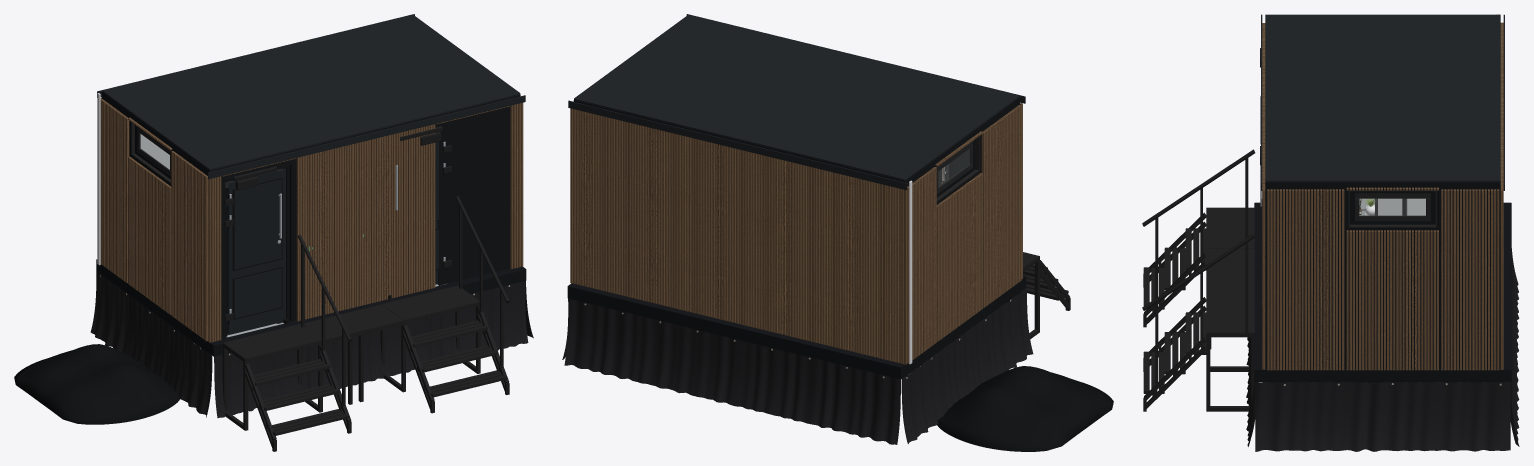
File: SHOWER2_B-f007bf019317.glb
The picture shows the model from 3 angles, left to right: view 1: azimuth 30°, elevation 25°; view 2: azimuth 150°, elevation 25°; view 3: azimuth 270°, elevation 25°; orthographic projection. The views are drawn at different scales.
Parts seen in each view (by area): view 1: RoofNoLED_Slab_1x1m, SHOWER2_Slats_front_02, SHOWER2_Curtain_front, SHOWER2_Wall_front_03_fill, SHOWER2_Drawbar_tarp, SHOWER2_Curtain_end, SHOWER2_Slats_L_06, SHOWER2_Slats_L_07, SHOWER2_Slats_L_09, DoorUnit_L_Inset_panel_001, DoorUnit_L_Opaque_leaf, SHOWER2_Cornice_front_B (+13 smaller); view 2: SHOWER2_Slats_back_05, RoofNoLED_Slab_1x1m, SHOWER2_Curtain_back, SHOWER2_Drawbar_tarp, SHOWER2_Curtain_end, SHOWER2_Slats_L_06, SHOWER2_Slats_L_07, SHOWER2_Chassis_ledge_back, SHOWER2_Slats_L_09, SHOWER2_Cornice_back_B, SHOWER2_Chassis_rim_end_L, SHOWER2_Wall_back_00 (+1 smaller); view 3: RoofNoLED_Slab_1x1m, SHOWER2_Curtain_end, SHOWER2_Slats_R_10, SHOWER2_Slats_R_11, SHOWER2_Slats_R_13, SHOWER2_Wall_end_R_00, SHOWER2_Wall_end_R_01, SHOWER2_Wall_end_R_03, SHOWER2_Chassis_rim_end_R, Stair_Landing_Plate.001, SHOWER2_Platform_fill, Stair_Landing_Plate (+17 smaller).
Boxes of the visible parts, x1,y1,x2,y2 form: RoofNoLED_Slab_1x1m: [102, 14, 520, 170]; SHOWER2_Slats_front_02: [296, 124, 435, 321]; SHOWER2_Curtain_front: [214, 281, 528, 417]; SHOWER2_Wall_front_03_fill: [437, 98, 505, 285]; SHOWER2_Drawbar_tarp: [14, 344, 179, 424]; SHOWER2_Curtain_end: [90, 271, 533, 417]; SHOWER2_Slats_L_06: [171, 151, 208, 341]; SHOWER2_Slats_L_07: [128, 156, 171, 314]; SHOWER2_Slats_L_09: [100, 99, 129, 282]; DoorUnit_L_Inset_panel_001: [234, 179, 281, 269]; DoorUnit_L_Opaque_leaf: [227, 169, 285, 334]; SHOWER2_Cornice_front_B: [208, 95, 525, 179]; SHOWER2_Slats_back_05: [570, 108, 907, 364]; RoofNoLED_Slab_1x1m: [574, 14, 1019, 180]; SHOWER2_Curtain_back: [564, 298, 900, 444]; SHOWER2_Drawbar_tarp: [937, 366, 1113, 451]; SHOWER2_Curtain_end: [562, 288, 1033, 443]; SHOWER2_Slats_L_06: [981, 105, 1021, 307]; SHOWER2_Slats_L_07: [936, 173, 982, 341]; SHOWER2_Chassis_ledge_back: [568, 283, 903, 378]; SHOWER2_Slats_L_09: [907, 167, 936, 363]; SHOWER2_Cornice_back_B: [568, 100, 907, 190]; SHOWER2_Chassis_rim_end_L: [899, 276, 1026, 379]; SHOWER2_Wall_back_00: [573, 100, 908, 375]; RoofNoLED_Slab_1x1m: [1265, 14, 1500, 182]; SHOWER2_Curtain_end: [1255, 381, 1510, 451]; SHOWER2_Slats_R_10: [1267, 189, 1344, 370]; SHOWER2_Slats_R_11: [1346, 230, 1438, 370]; SHOWER2_Slats_R_13: [1441, 189, 1499, 370]; SHOWER2_Wall_end_R_00: [1272, 182, 1348, 382]; SHOWER2_Wall_end_R_01: [1348, 227, 1436, 383]; SHOWER2_Wall_end_R_03: [1437, 182, 1493, 382]; SHOWER2_Chassis_rim_end_R: [1254, 369, 1511, 381]; Stair_Landing_Plate.001: [1206, 292, 1254, 332]; SHOWER2_Platform_fill: [1206, 249, 1254, 291]; Stair_Landing_Plate: [1206, 207, 1254, 248].
Bounding box in the file's own units: 5.61 × 3.04 × 3.85.
85 materials, 13 textured.
